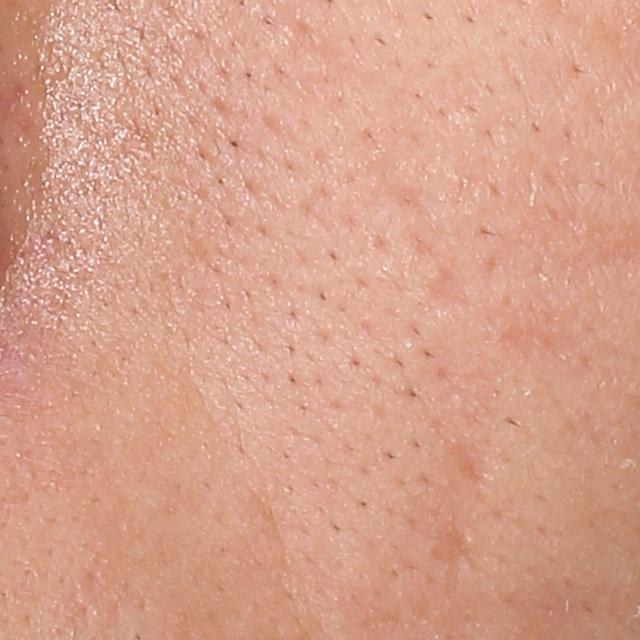atrophic_scar: (424, 508, 492, 599), (432, 420, 502, 494), (423, 249, 473, 318)
